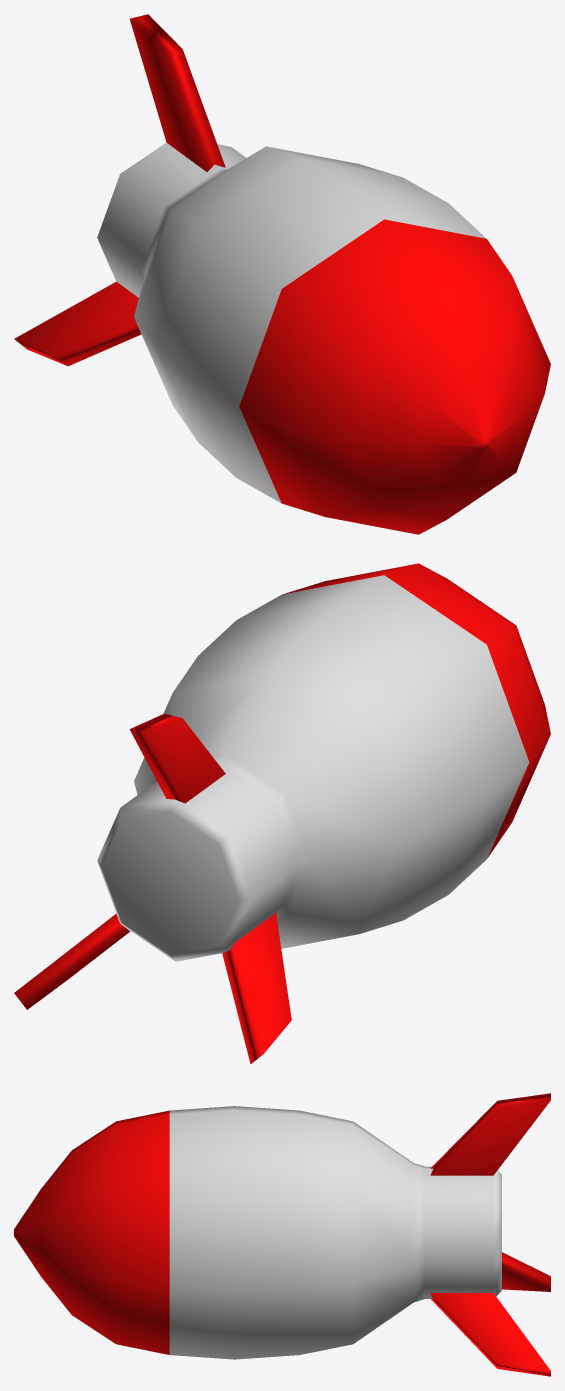
File: roket01.fbx
3 views of the same model, one above another, from view 1: azimuth 30°, elevation 25°; view 2: azimuth 150°, elevation 25°; view 3: azimuth 270°, elevation 25° (orthographic). The views are drawn at different scales.
Parts seen in each view (by area): view 1: roket01; view 2: roket01; view 3: roket01.
Boxes of the visible parts, left/top/right/bottom form: roket01: left=14, top=14, right=550, bottom=534; roket01: left=14, top=563, right=550, bottom=1063; roket01: left=14, top=1093, right=550, bottom=1376.
Size of the model in its own units: 1.29 by 1.36 by 2.56.
